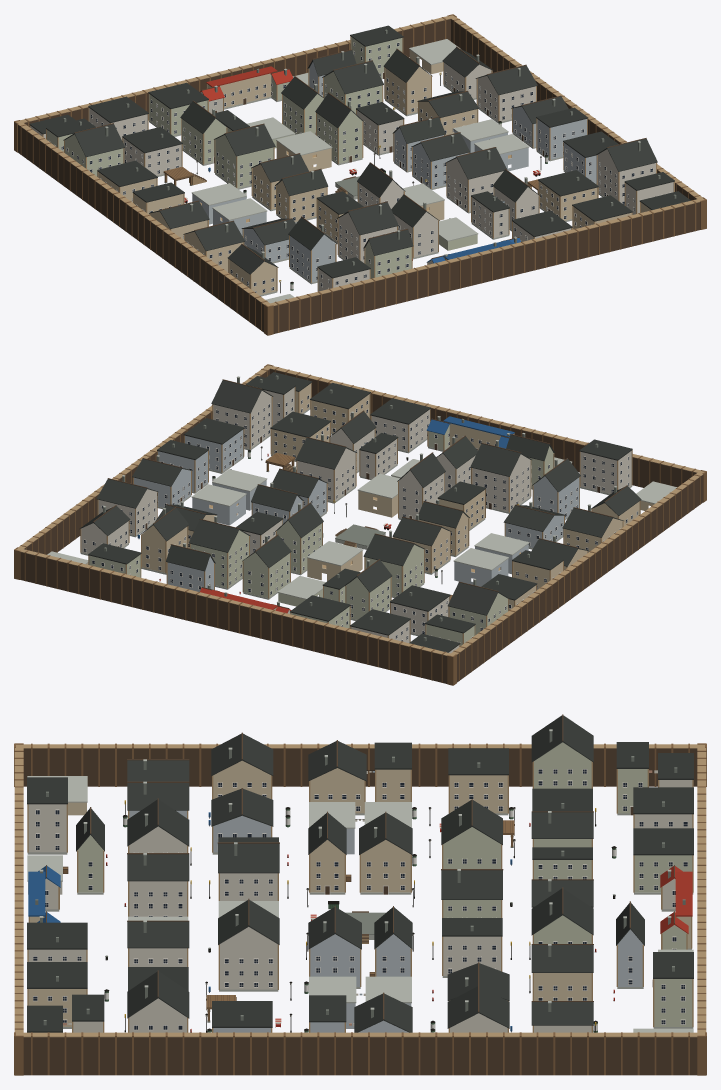
The model's file is largo.glb.
The picture shows the model from 3 angles, top to bottom: view 1: azimuth 30°, elevation 25°; view 2: azimuth 150°, elevation 25°; view 3: azimuth 270°, elevation 25°; orthographic projection. The views are drawn at different scales.
Visible parts, largest first — view 1: map_roof_slate.001, map_wood_dark.001, map_wall_0.001, map_wall_1.001, map_wall_3.001, map_wood_light.001, map_stone.001, map_wood.001, map_wall_2.001, map_trim.001, map_glass.001, map_hw_bfc8cc.001 (+4 smaller); view 2: map_roof_slate.001, map_wood_dark.001, map_wall_0.001, map_wood_light.001, map_wall_1.001, map_wall_3.001, map_stone.001, map_wood.001, map_wall_2.001, map_trim.001, map_glass.001, map_hw_bfc8cc.001 (+4 smaller); view 3: map_roof_slate.001, map_wood_dark.001, map_wall_0.001, map_wood_light.001, map_wall_1.001, map_wall_3.001, map_wood.001, map_stone.001, map_wall_2.001, map_trim.001, map_glass.001, map_stone_dark.001 (+3 smaller).
Boxes of the visible parts, <box> form: map_roof_slate.001: <box>29,25,690,278</box>; map_wood_dark.001: <box>18,19,700,333</box>; map_wall_0.001: <box>30,62,673,291</box>; map_wall_1.001: <box>47,37,411,278</box>; map_wall_3.001: <box>98,67,651,295</box>; map_wood_light.001: <box>16,15,704,306</box>; map_stone.001: <box>105,39,640,303</box>; map_wood.001: <box>14,14,706,335</box>; map_wall_2.001: <box>243,61,596,282</box>; map_trim.001: <box>48,42,670,293</box>; map_glass.001: <box>49,43,652,292</box>; map_hw_bfc8cc.001: <box>192,130,528,235</box>; map_roof_slate.001: <box>79,372,641,652</box>; map_wood_dark.001: <box>20,369,702,683</box>; map_wall_0.001: <box>81,387,631,653</box>; map_wood_light.001: <box>16,365,704,656</box>; map_wall_1.001: <box>89,425,553,645</box>; map_wall_3.001: <box>142,383,639,610</box>; map_stone.001: <box>47,376,676,636</box>; map_wood.001: <box>14,364,706,685</box>; map_wall_2.001: <box>134,429,579,591</box>; map_trim.001: <box>83,395,638,642</box>; map_glass.001: <box>84,395,637,641</box>; map_hw_bfc8cc.001: <box>192,480,528,586</box>; map_roof_slate.001: <box>27,715,693,1032</box>; map_wood_dark.001: <box>23,714,697,1075</box>; map_wall_0.001: <box>28,780,692,1032</box>; map_wood_light.001: <box>14,744,706,1037</box>; map_wall_1.001: <box>77,742,692,1026</box>; map_wall_3.001: <box>28,760,690,1026</box>; map_wood.001: <box>14,743,706,1075</box>; map_stone.001: <box>27,729,693,1032</box>; map_wall_2.001: <box>129,810,643,1032</box>; map_trim.001: <box>33,769,687,1030</box>; map_glass.001: <box>33,769,687,1029</box>; map_stone_dark.001: <box>35,731,685,1025</box>.
Size of the model in its own units: 164 by 20.11 by 164.
